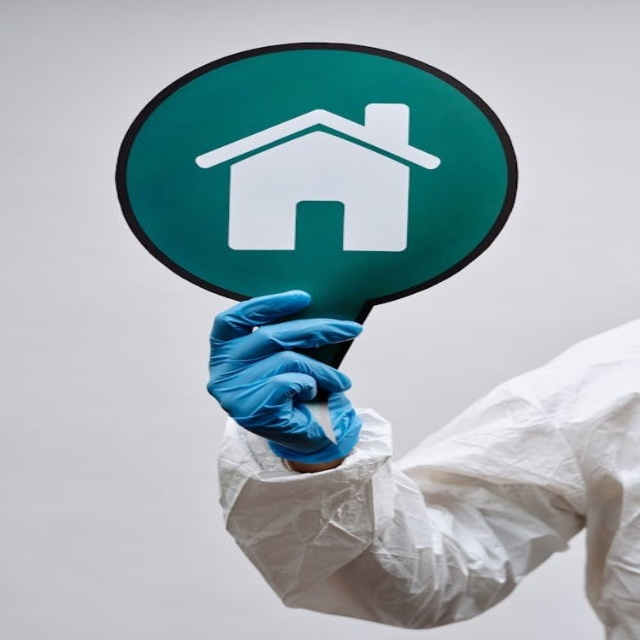Guantes: (207, 287, 364, 465)
